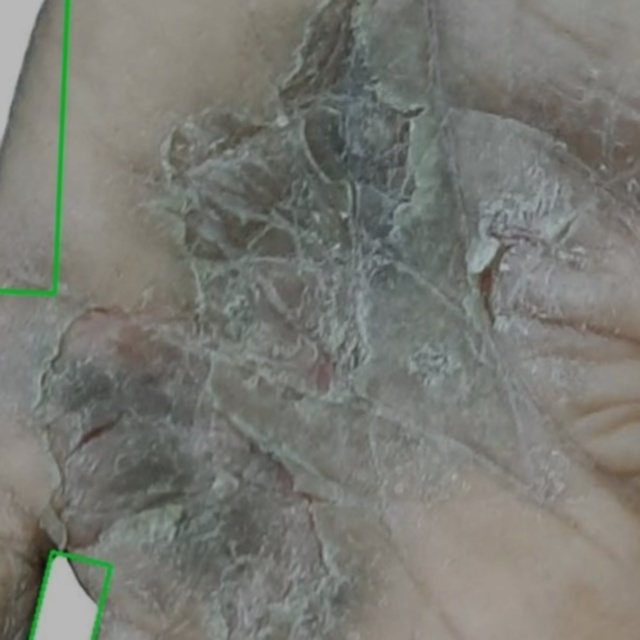Contact Dermatitis: (30, 551, 110, 639)
